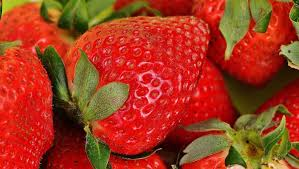strawberry: (61, 14, 213, 155)
